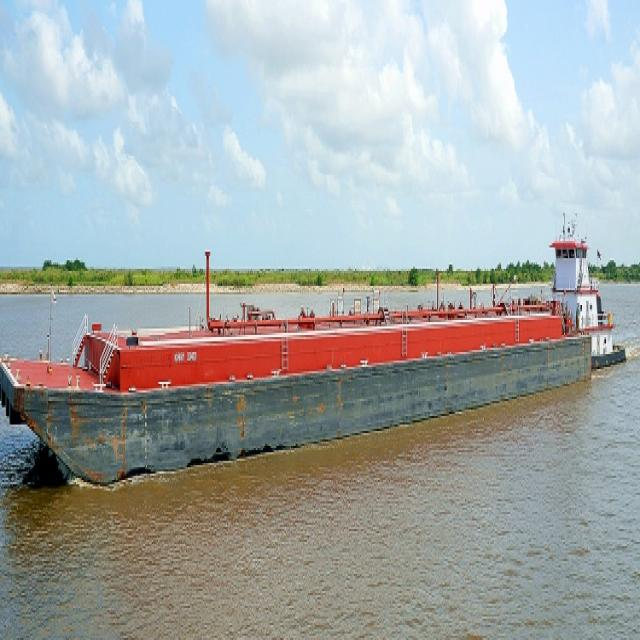tugboat: (518, 206, 632, 398)
